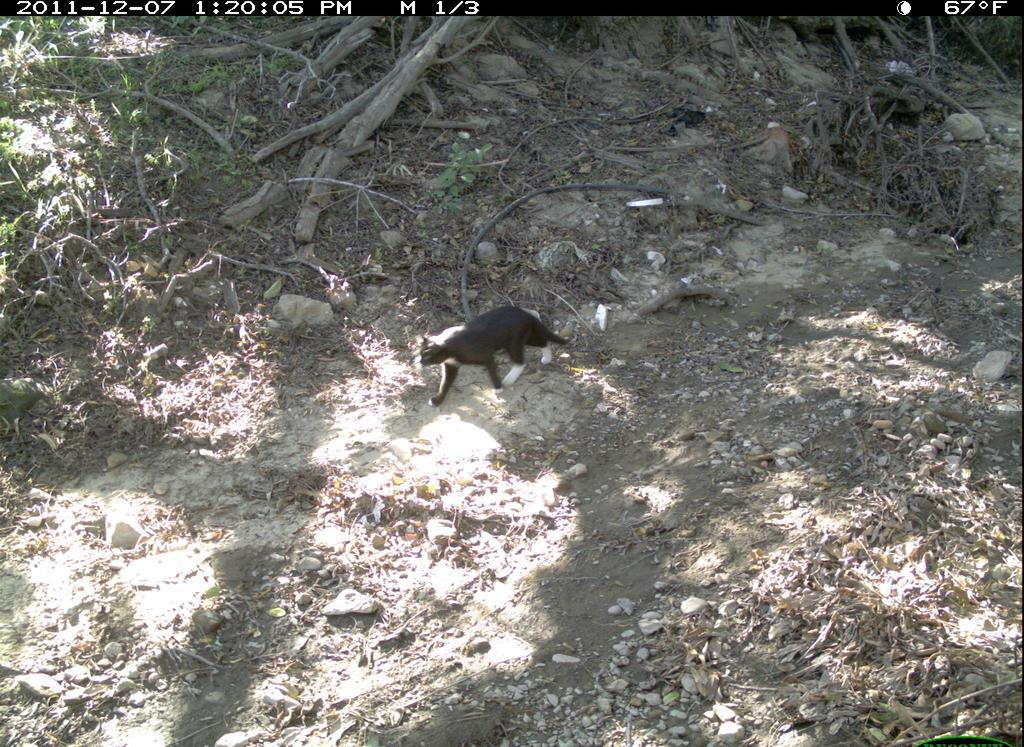cat: (391, 289, 574, 406)
